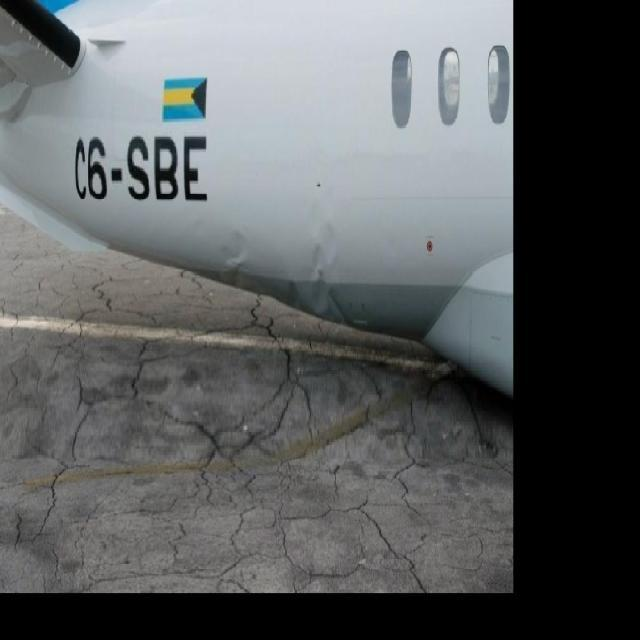dent: (223, 184, 366, 335)
